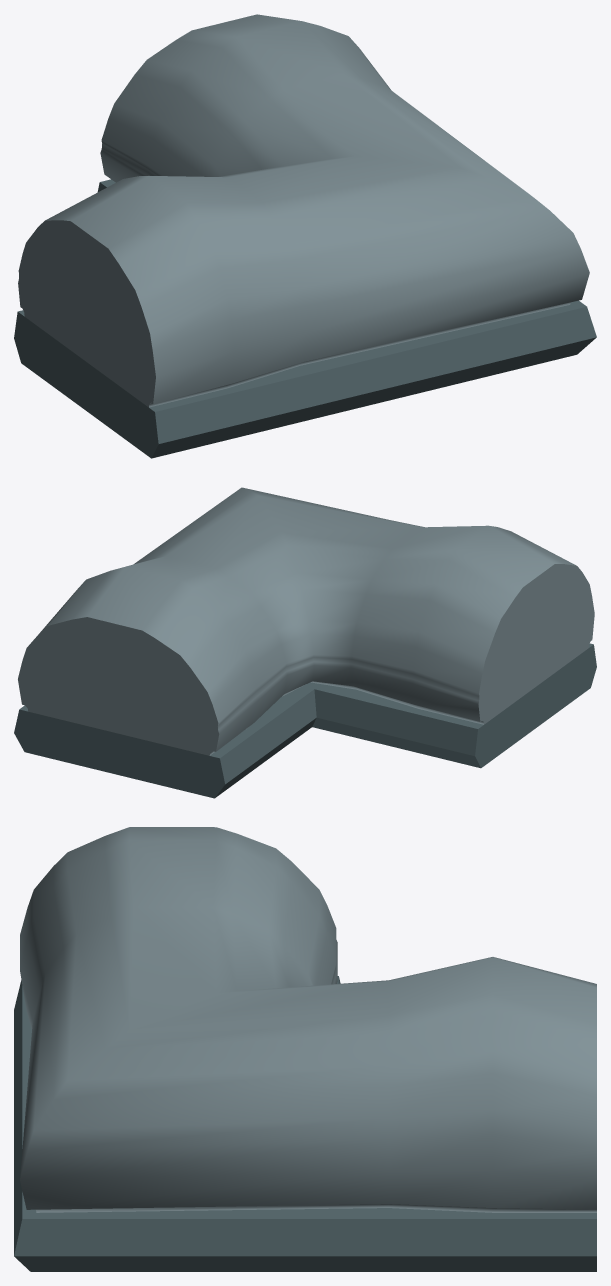
Rendered from city_shore_edges_04_rock_corner.glb.
The picture shows the model from 3 angles, top to bottom: view 1: azimuth 30°, elevation 25°; view 2: azimuth 150°, elevation 25°; view 3: azimuth 270°, elevation 25°; orthographic projection. The views are drawn at different scales.
Parts seen in each view (by area): view 1: CityShoreEdges04_rock_corner_Mesh; view 2: CityShoreEdges04_rock_corner_Mesh; view 3: CityShoreEdges04_rock_corner_Mesh.
Boxes of the visible parts, box(x1,y1,x2,y2) form: CityShoreEdges04_rock_corner_Mesh: box(14, 14, 596, 458); CityShoreEdges04_rock_corner_Mesh: box(14, 487, 596, 798); CityShoreEdges04_rock_corner_Mesh: box(14, 827, 596, 1271).
Bounding box in the file's own units: 2.8 × 1.25 × 2.8.
